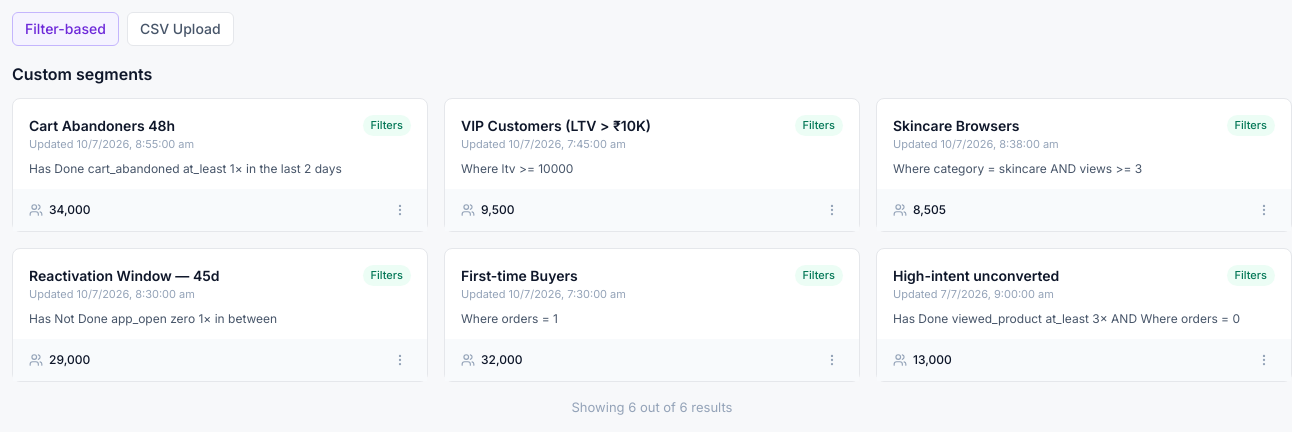
CustomSegmentsTab › switching to CSV Upload sub-tab shows csv-created segments only
Click the button with test id "custom-toggle-csv": (180,29) 127,12 -> 234,46
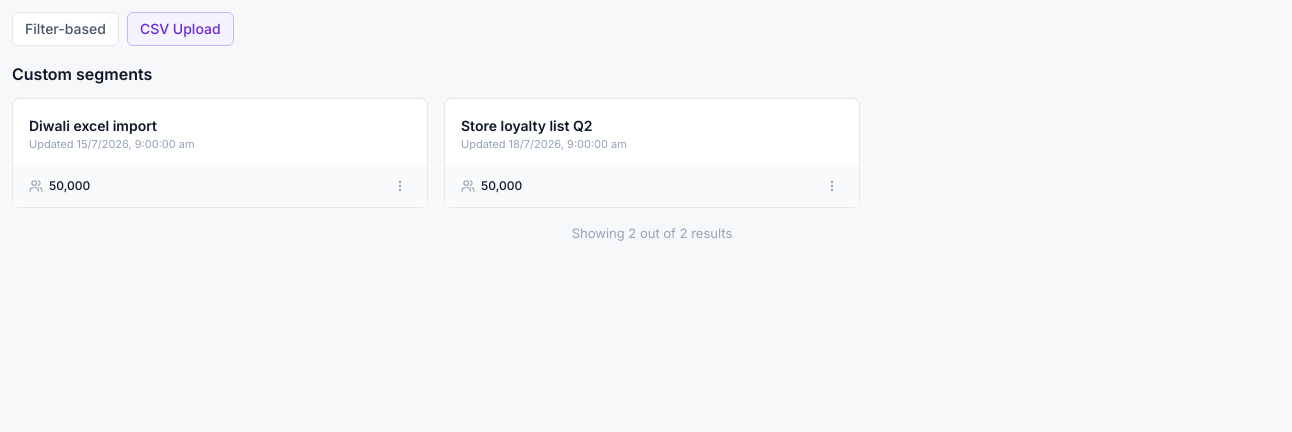
Expected: the text "Diwali excel import" is shown, 29,117 -> 157,134
Expected: the text "Store loyalty list Q2" is shown, 461,117 -> 592,134
Expected: the text "Cart Abandoners 48h" is gone
